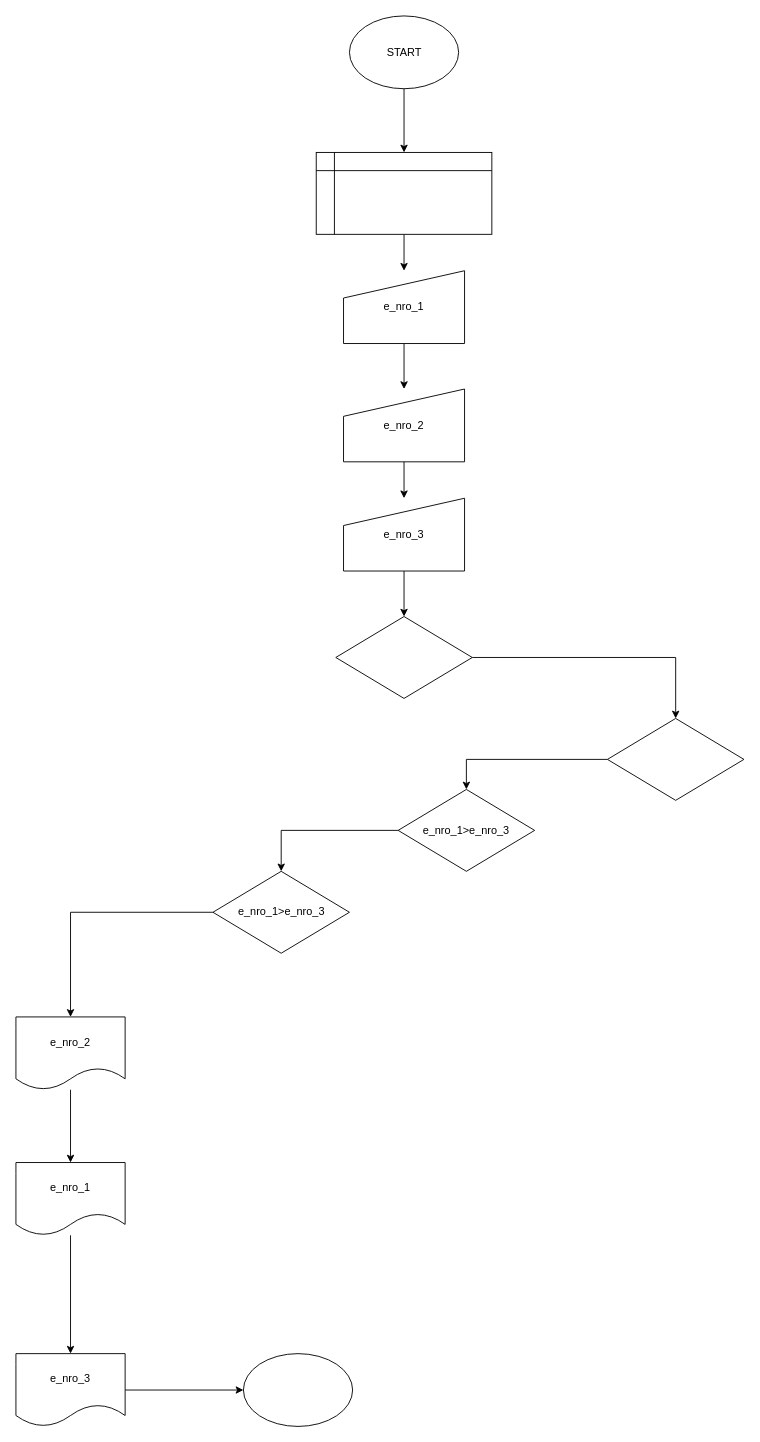
The diagram is 760 pixels wide and 1442 high, and some of its shapes have lost their labels. The shapes that lost their labels are listed below. From the top down, each one's centre as x and y in pixels, then its label:
At point 403,193: "e_nro_1, e_nro_2, e_nro_3".
At point 403,657: "e_nro_1>e_nro_2".
At point 675,759: "e_nro_2>e_nro_3".
At point 298,1389: "FIM".
